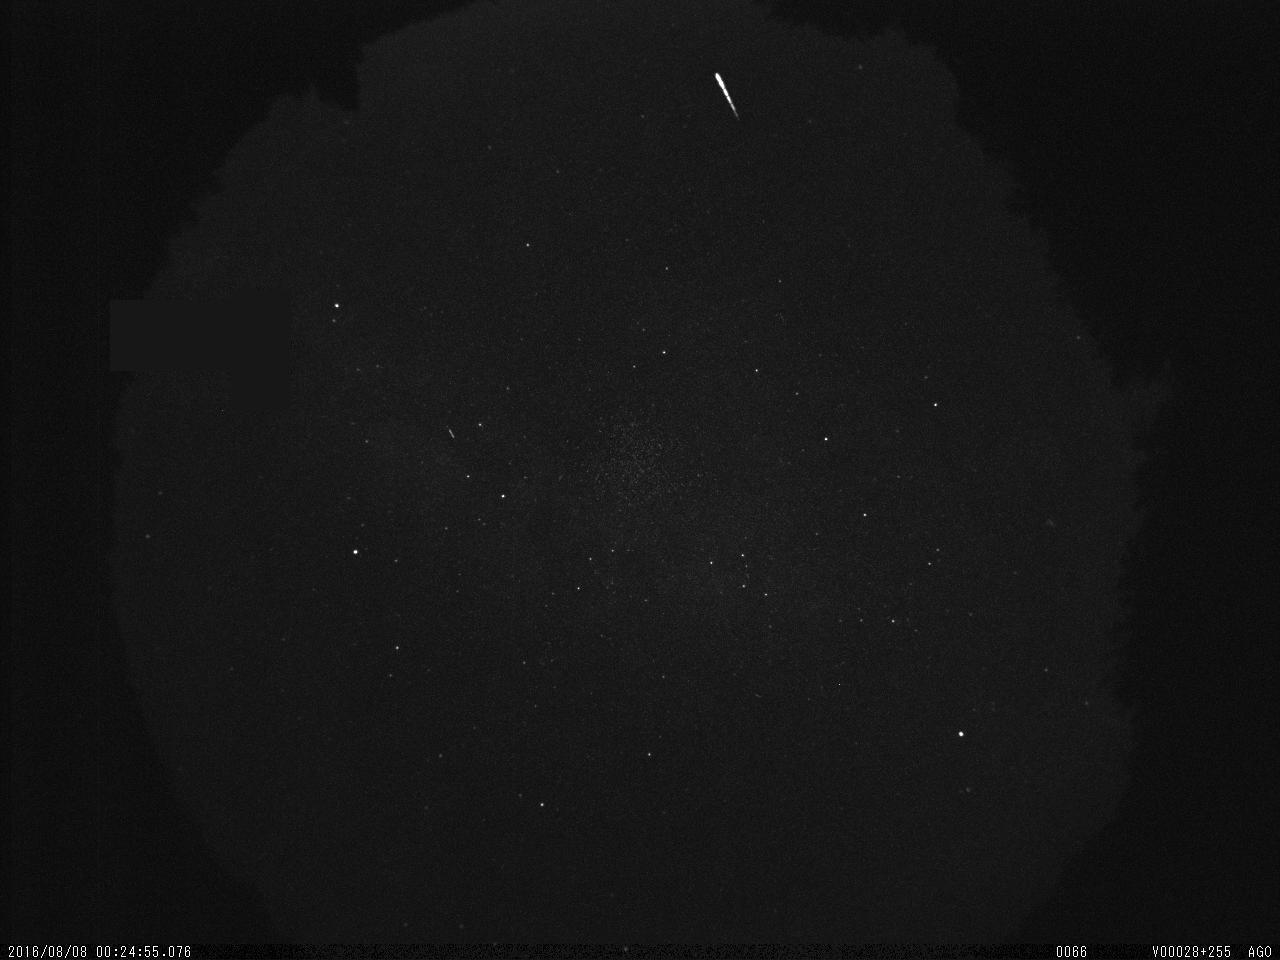Meteor: (711, 70, 740, 120)
